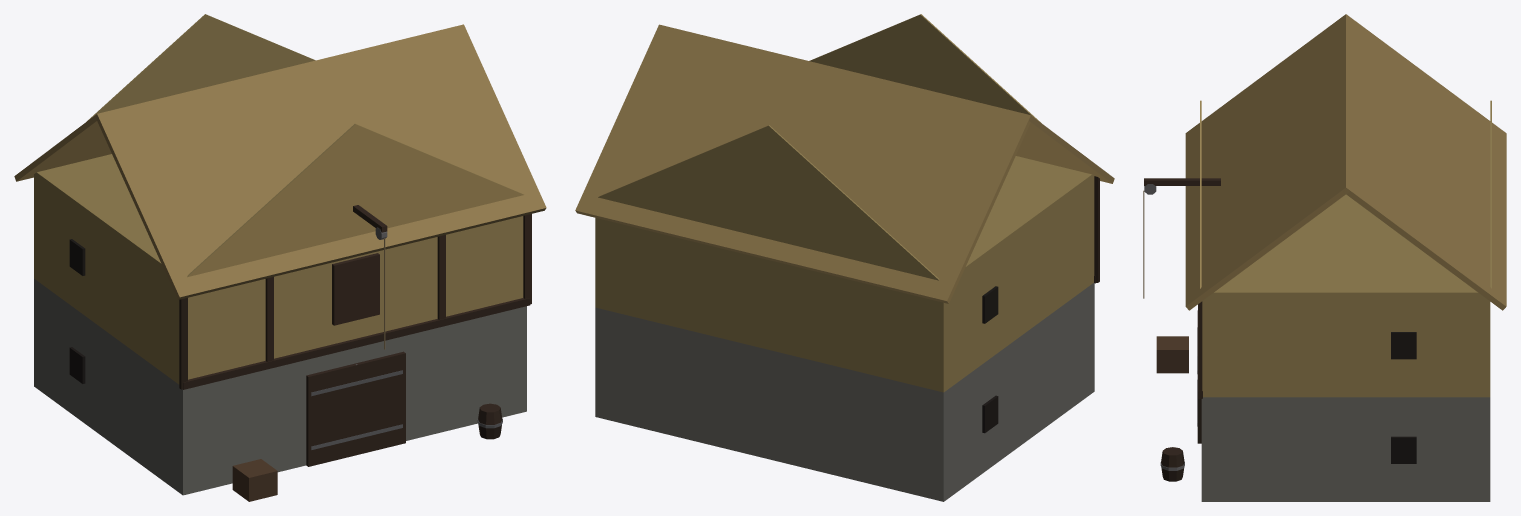
Rendered from walk_tidebound_warehouse.glb.
3 views of the same model, side by side, from view 1: azimuth 30°, elevation 25°; view 2: azimuth 150°, elevation 25°; view 3: azimuth 270°, elevation 25° (orthographic). The views are drawn at different scales.
Parts seen in each view (by area): view 1: walk_tidebound_warehouse, walk_tidebound_warehouse_roof; view 2: walk_tidebound_warehouse, walk_tidebound_warehouse_roof; view 3: walk_tidebound_warehouse, walk_tidebound_warehouse_roof.
Part boxes in pixels (left/top/right/bottom): walk_tidebound_warehouse: left=34, top=154, right=531, bottom=501; walk_tidebound_warehouse_roof: left=14, top=14, right=546, bottom=299; walk_tidebound_warehouse: left=595, top=156, right=1099, bottom=501; walk_tidebound_warehouse_roof: left=575, top=14, right=1114, bottom=303; walk_tidebound_warehouse: left=1143, top=178, right=1490, bottom=501; walk_tidebound_warehouse_roof: left=1185, top=14, right=1506, bottom=310.
Size of what is drawn, in the model's own units: 12.8 by 11 by 11.31.
2 materials, 2 textured.
